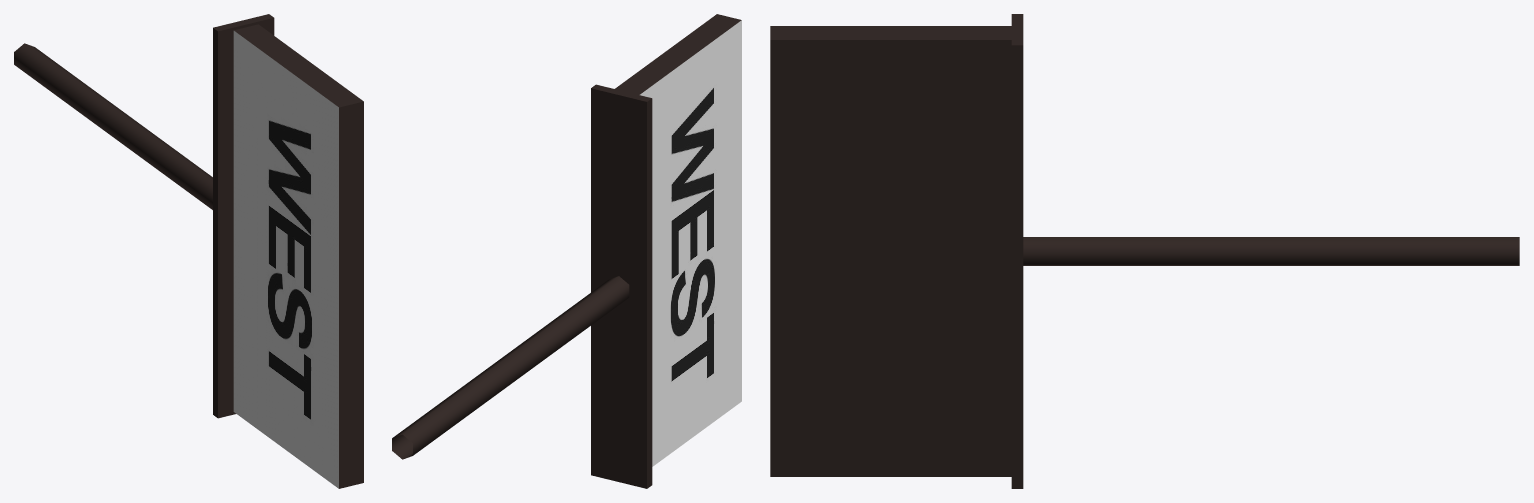
File: west.obj
3 views of the same model, side by side, from view 1: azimuth 30°, elevation 25°; view 2: azimuth 150°, elevation 25°; view 3: azimuth 270°, elevation 25° (orthographic). The views are drawn at different scales.
Visible parts, largest first — view 1: west; view 2: west; view 3: west.
Part boxes in pixels (<box>): west: <box>14,14,363,488</box>; west: <box>392,14,741,488</box>; west: <box>770,14,1519,488</box>.
Size of the model in its own units: 1.4 by 9.22 by 14.12.
2 materials, 1 textured.
